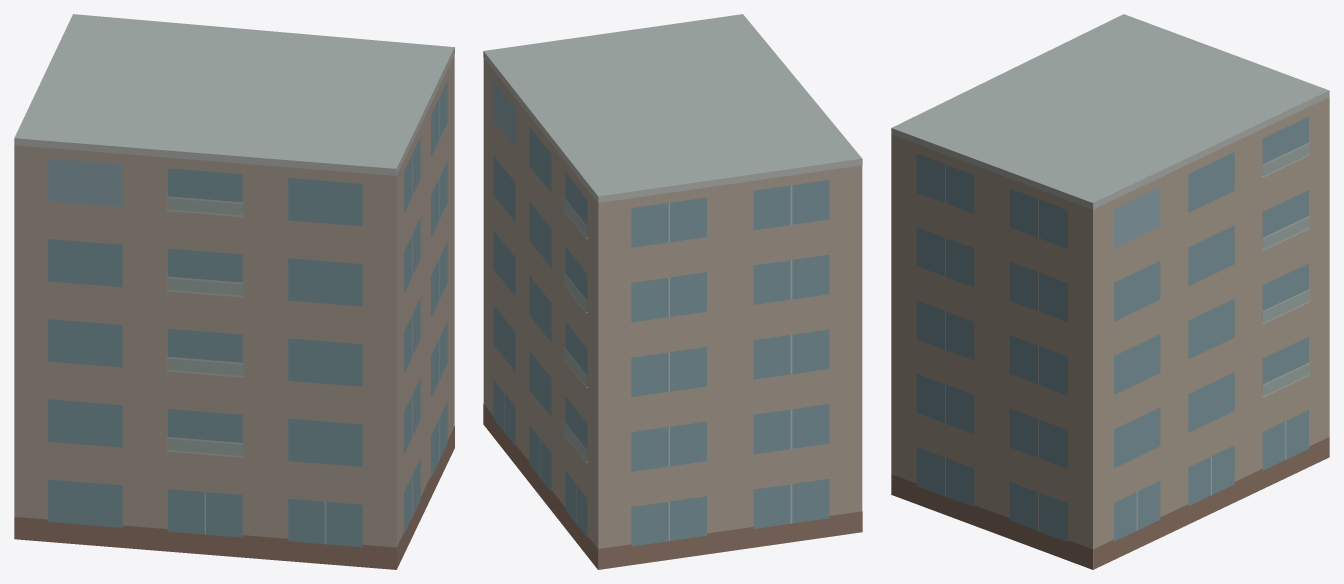
The model's file is survey-upis-33005790.glb.
The picture shows the model from 3 angles, left to right: view 1: azimuth 30°, elevation 25°; view 2: azimuth 150°, elevation 25°; view 3: azimuth 270°, elevation 25°; orthographic projection. The views are drawn at different scales.
Visible parts, largest first — view 1: survey-upis-33005790.tmp; view 2: survey-upis-33005790.tmp; view 3: survey-upis-33005790.tmp.
Part boxes in pixels (box(x1,y1,x2,y2)): survey-upis-33005790.tmp: box(14, 14, 454, 569); survey-upis-33005790.tmp: box(483, 14, 862, 569); survey-upis-33005790.tmp: box(891, 14, 1329, 569).
Bounding box in the file's own units: 15.27 × 13.8 × 14.95.
